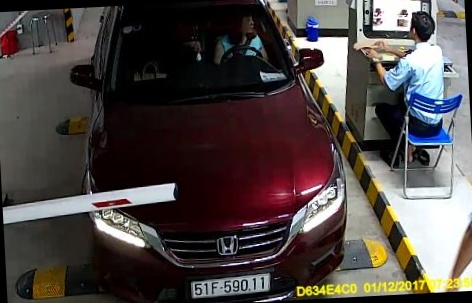plate: (185, 271, 280, 299)
